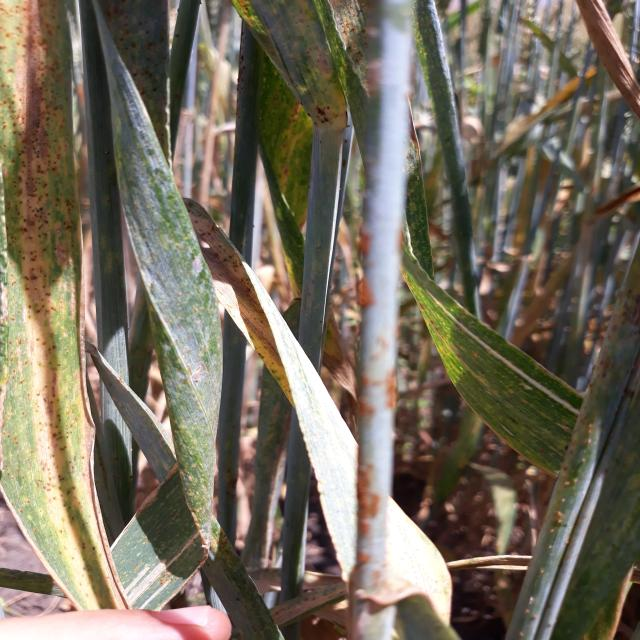black_stem_rust: (0, 4, 639, 638)
